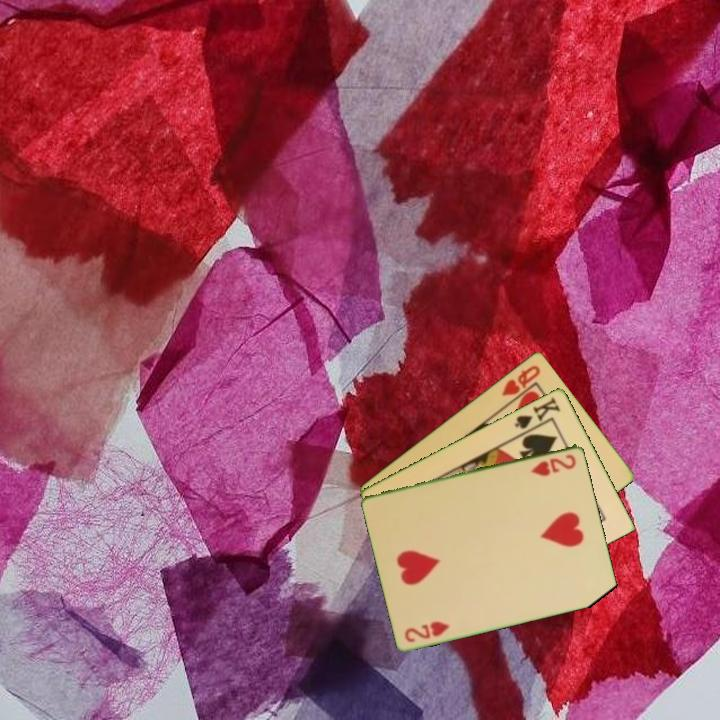2h: (527, 450, 579, 479), (401, 617, 453, 645)
Ks: (511, 393, 563, 436)
Qh: (498, 361, 543, 399)
